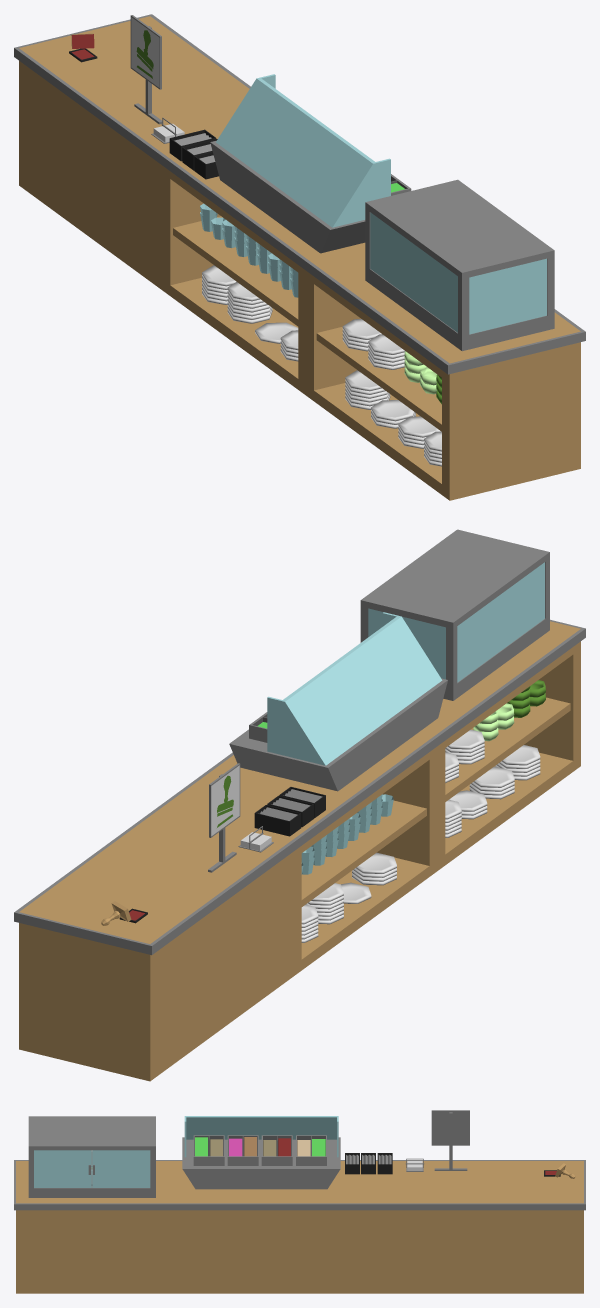
Rendered from IllumRooftopBuffet.fbx.
3 renders of one model, top to bottom at view 1: azimuth 30°, elevation 25°; view 2: azimuth 150°, elevation 25°; view 3: azimuth 270°, elevation 25°, orthographic. The views are drawn at different scales.
Parts seen in each view (by area): view 1: Cube.248; view 2: Cube.248; view 3: Cube.248.
Boxes of the visible parts, x1,y1,x2,y2 form: Cube.248: [14, 14, 585, 500]; Cube.248: [14, 529, 585, 1081]; Cube.248: [14, 1110, 585, 1293].
Size of the model in its own units: 118 by 189 by 645.
